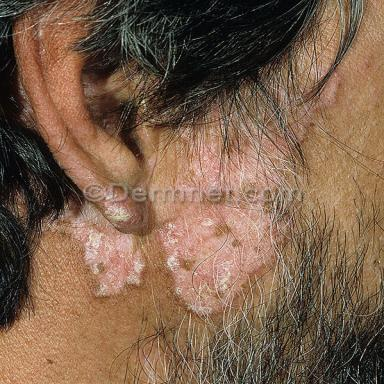Lupus-Erythematosus-Chronicus-Discoides: (176, 69, 341, 187), (154, 203, 290, 317), (50, 203, 148, 298)
